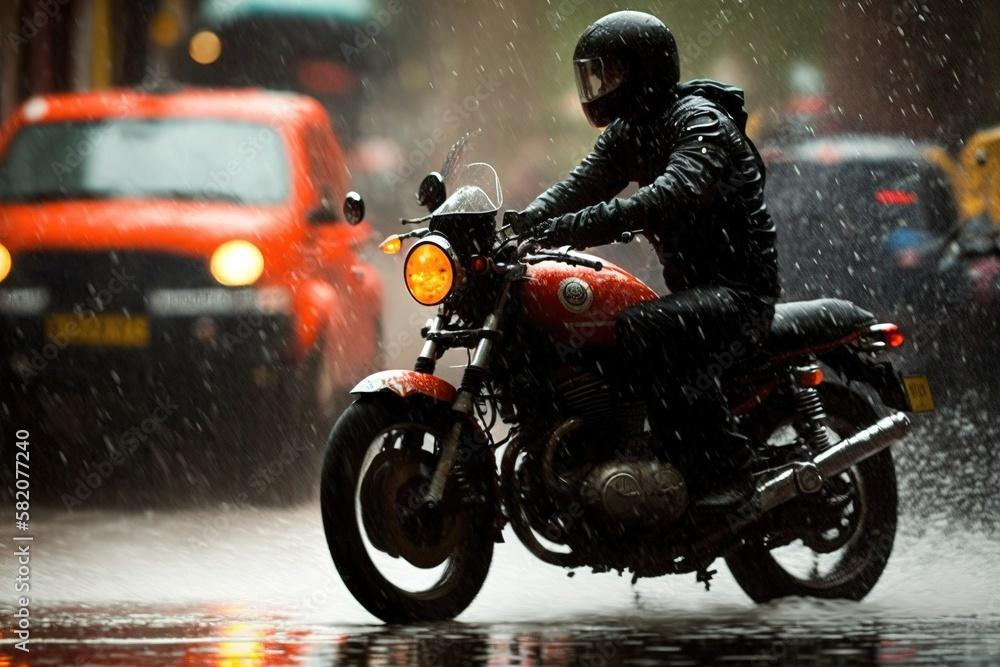helmet: (572, 9, 681, 129)
